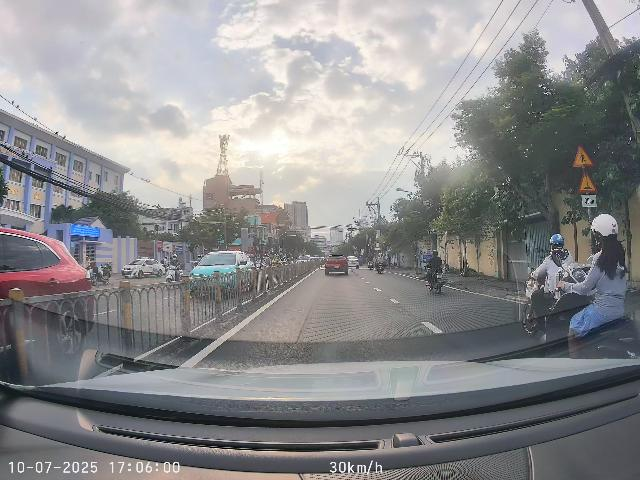221-duong-go-ghe: (578, 171, 598, 193)
224-duong-nguoi-di-bo-cat-ngang: (573, 144, 595, 167)
